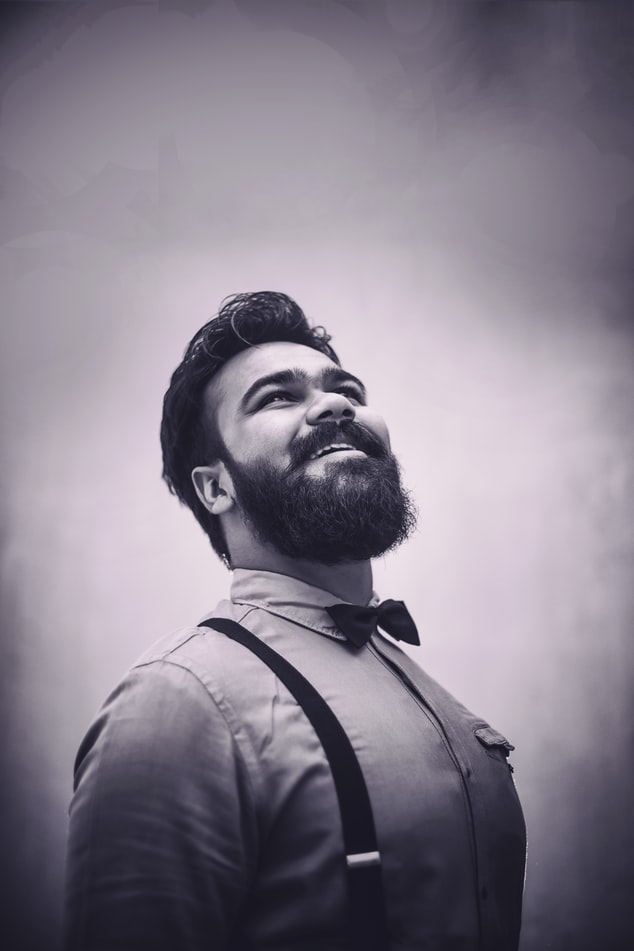beard: (225, 422, 424, 572)
bow: (318, 592, 427, 660)
